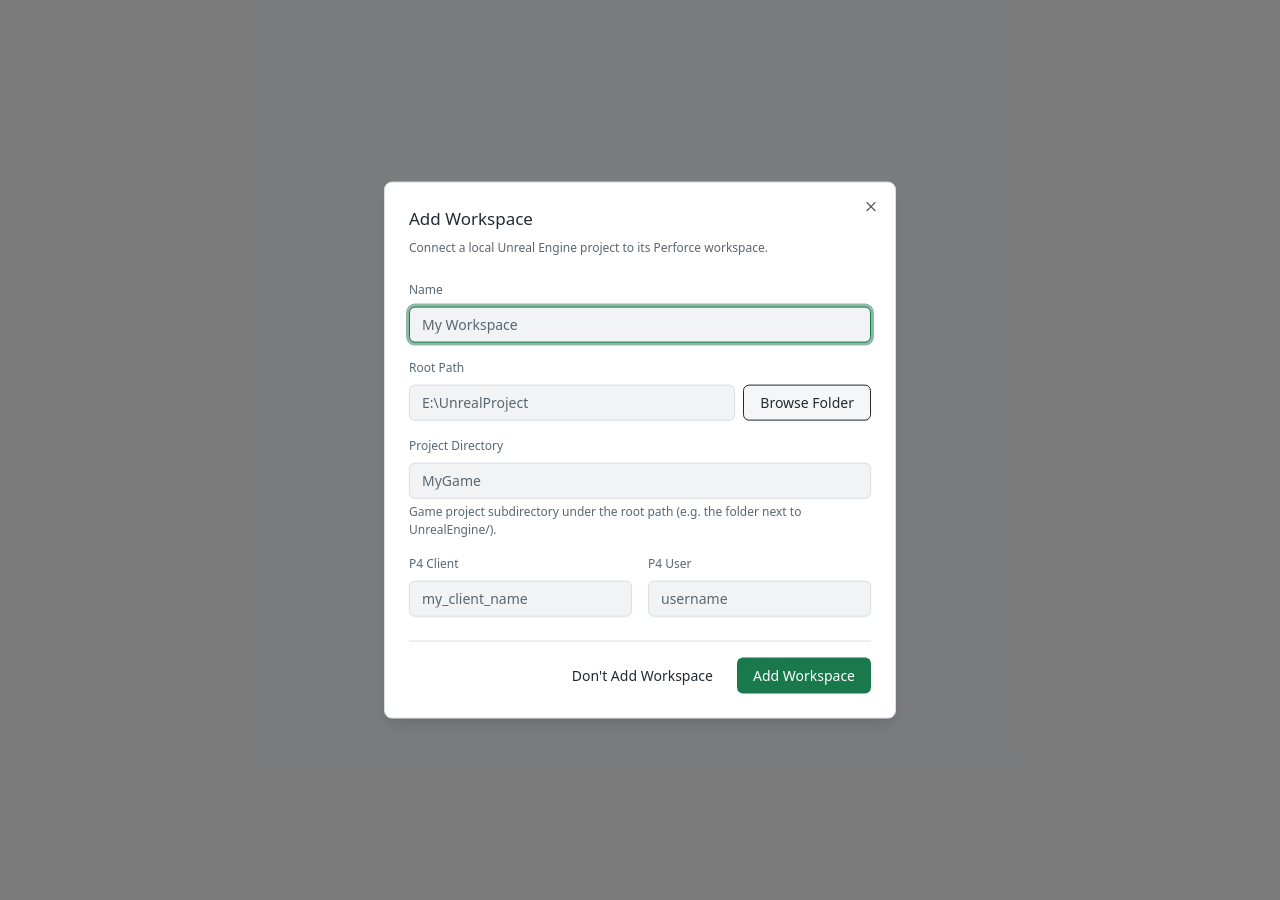
it: WorkspaceForm dictionary chrome › filling name only then submit shows the other four errors and not the name error
The image size is (1280, 900).
Type "My WS" into the field with placeholder "My Workspace" at (640, 324), box 409,306 -> 871,342
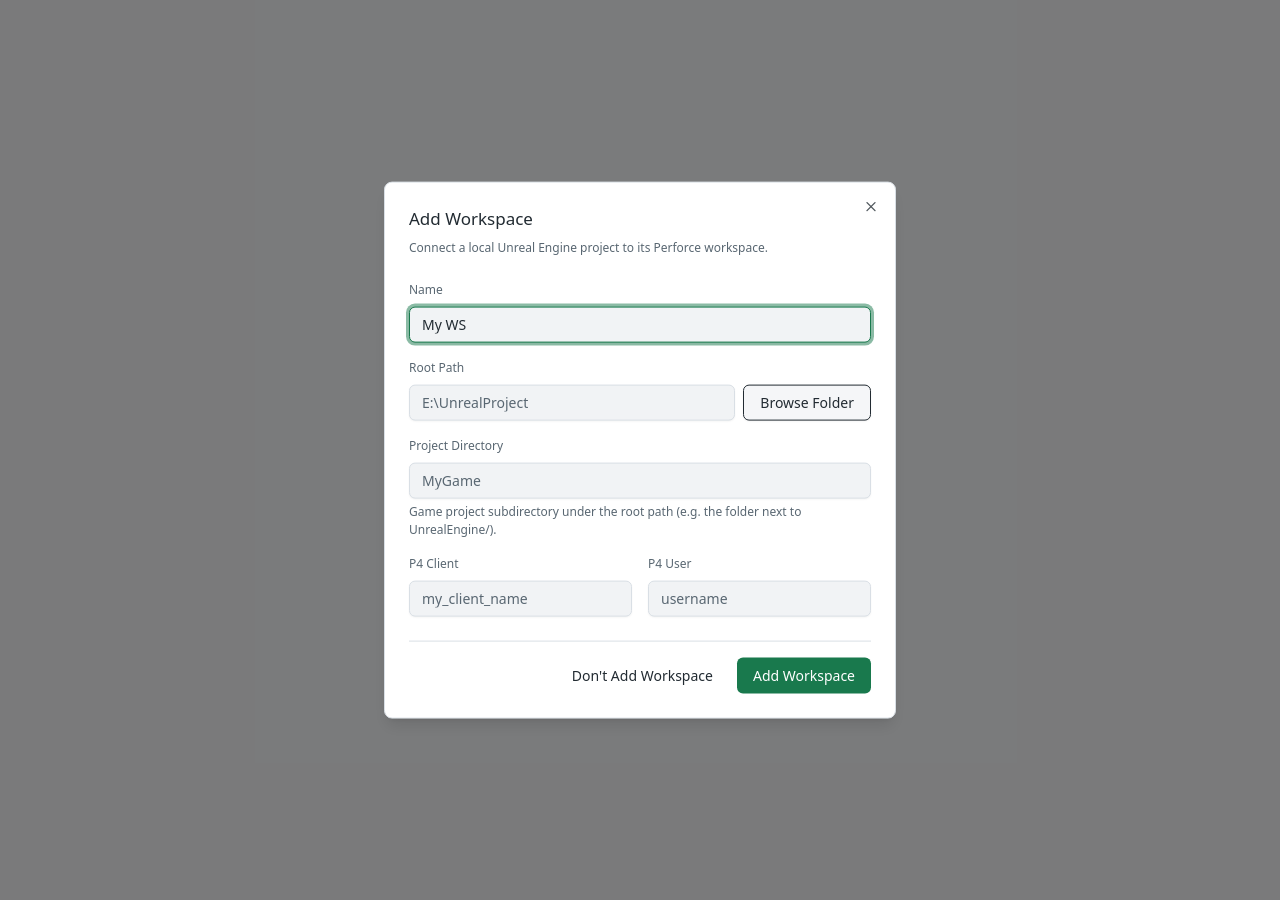
Click the button "Add Workspace" at (804, 675), box 737,657 -> 871,693
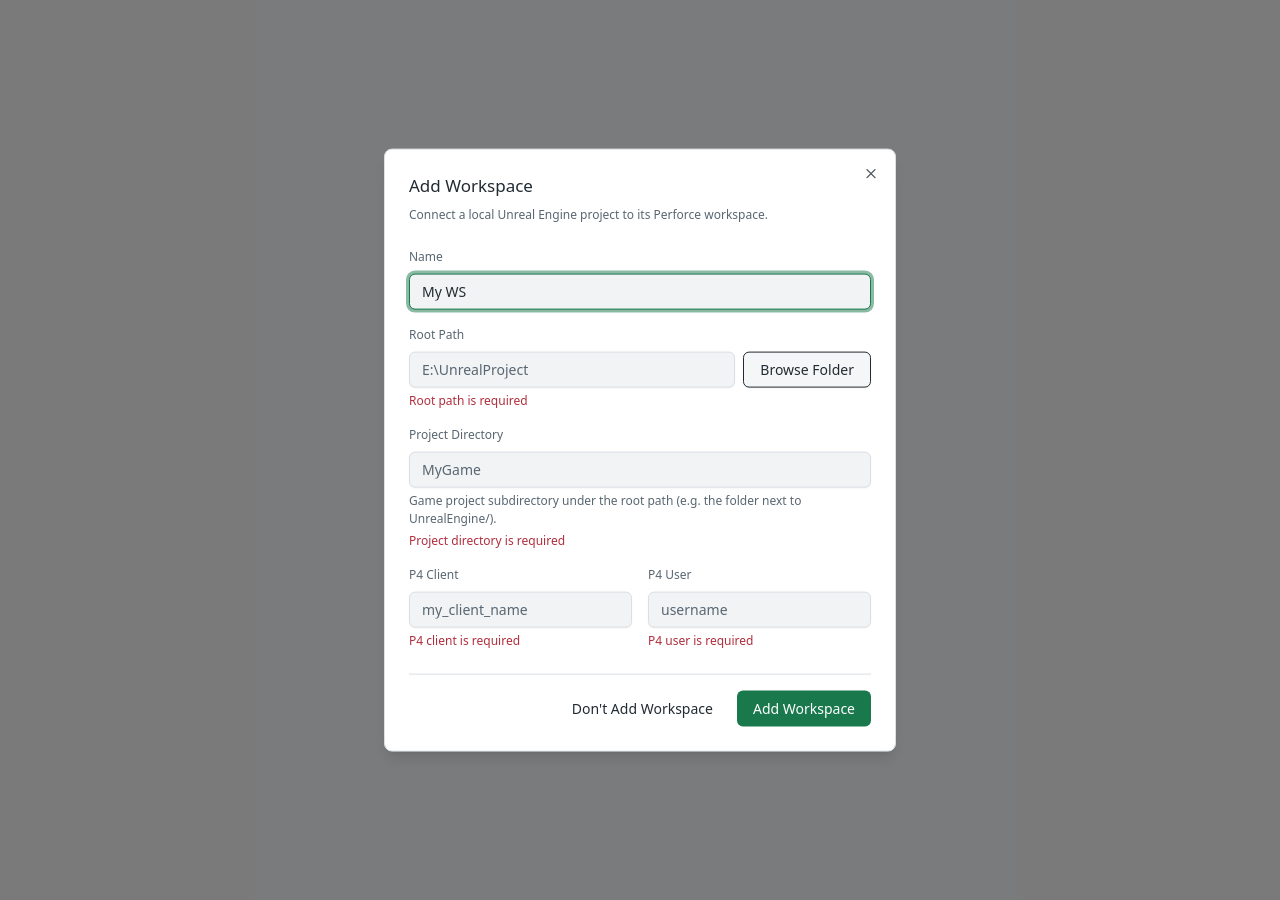
Now the text "Root path is required" is shown, box 409,391 -> 528,408
Now the text "Project directory is required" is shown, box 409,531 -> 565,548
Now the text "P4 client is required" is shown, box 409,631 -> 520,648
